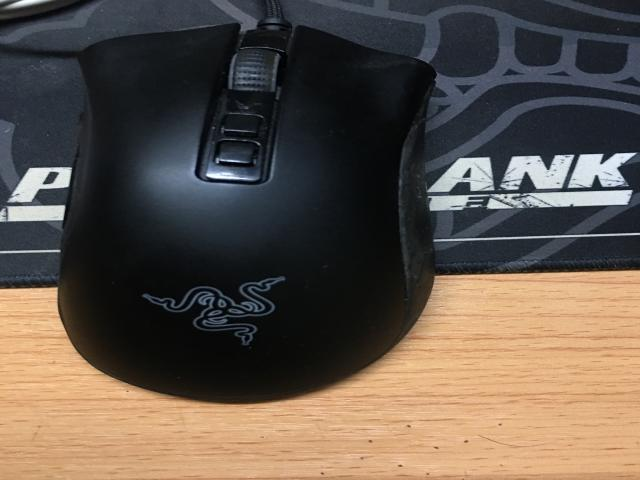Mouse: (58, 0, 435, 401)
